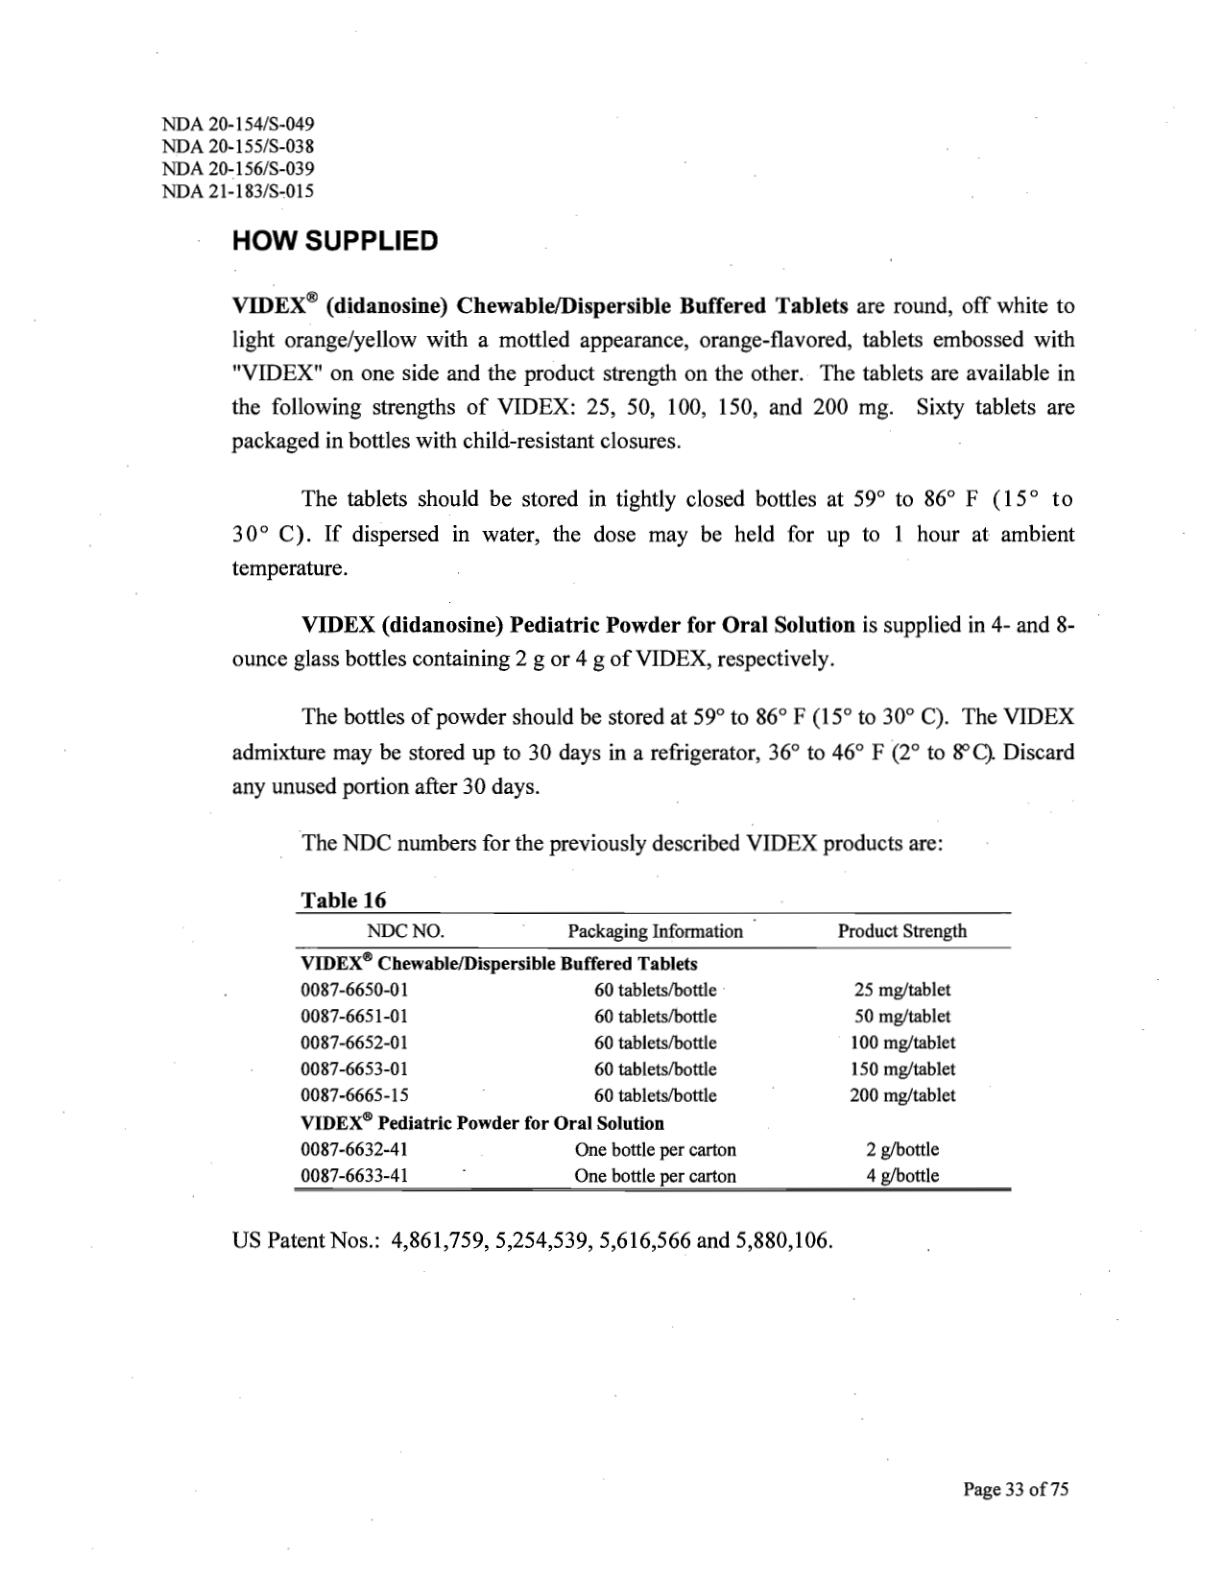partial_lined: (297, 909, 1012, 1190)
